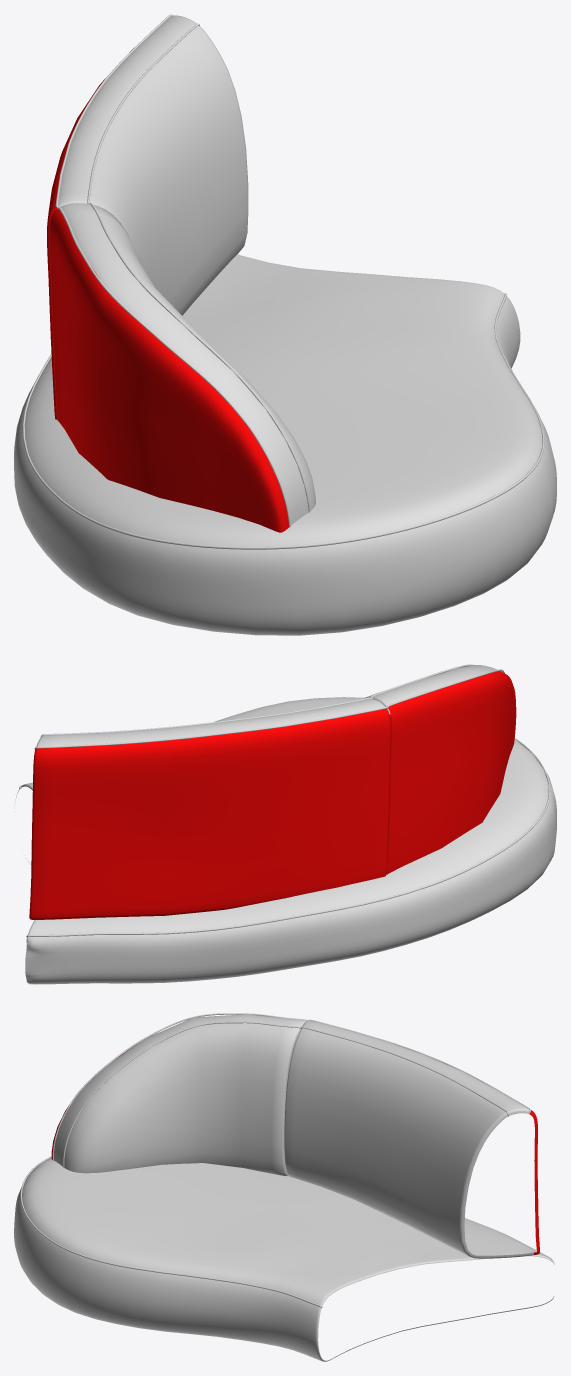
Rendered from levante_longchair_mirror.gltf.
3 renders of one model, top to bottom at view 1: azimuth 30°, elevation 25°; view 2: azimuth 150°, elevation 25°; view 3: azimuth 270°, elevation 25°, orthographic. The views are drawn at different scales.
Parts seen in each view (by area): view 1: longchair_mirror; view 2: longchair_mirror; view 3: longchair_mirror.
Part boxes in pixels (<box>): longchair_mirror: <box>14,14,556,635</box>; longchair_mirror: <box>15,664,556,984</box>; longchair_mirror: <box>14,1013,554,1361</box>.
Size of the model in its own units: 1.32 by 0.7136 by 1.68.
